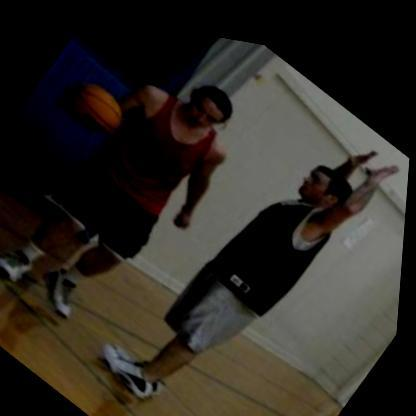basketball: (49, 56, 142, 149)
